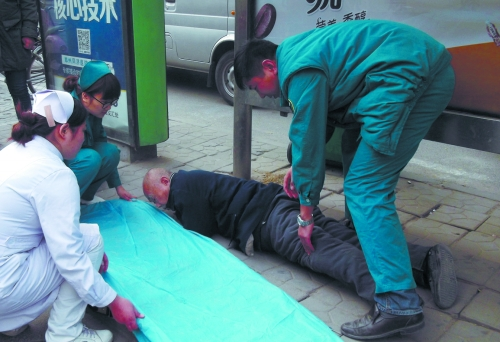fall: (126, 159, 473, 323)
